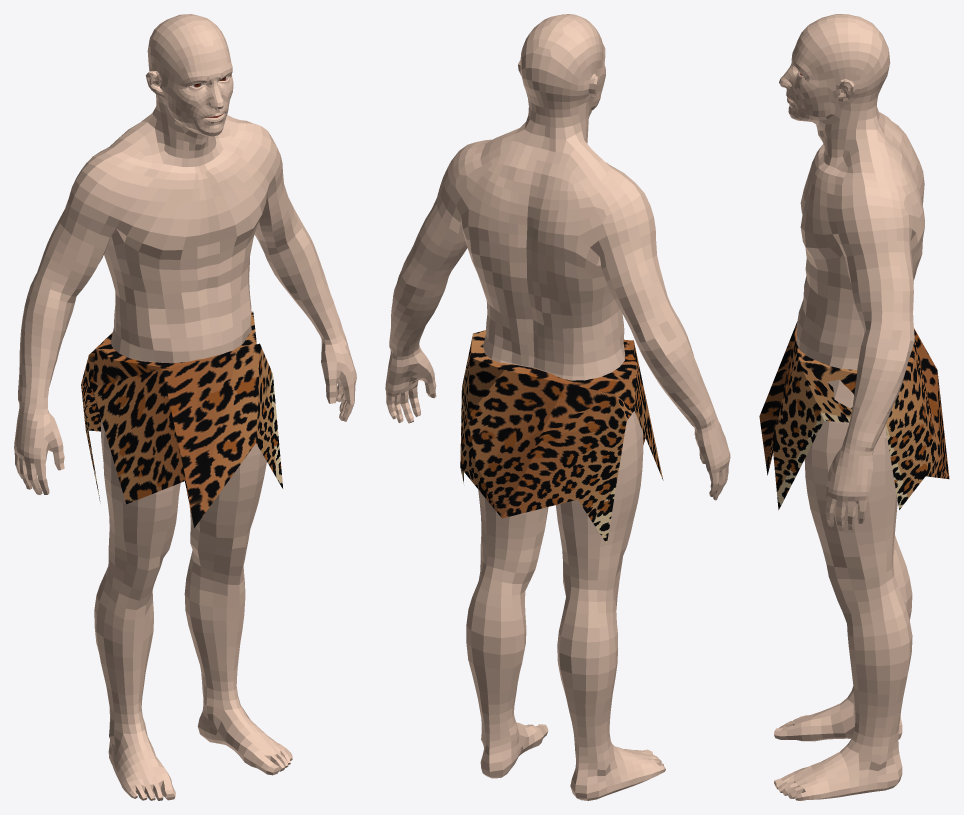
File: man2.obj
3 renders of one model, left to right at view 1: azimuth 30°, elevation 25°; view 2: azimuth 150°, elevation 25°; view 3: azimuth 270°, elevation 25°, orthographic.
Parts seen in each view (by area): view 1: Realistic_White_Male_Low_Poly; view 2: Realistic_White_Male_Low_Poly; view 3: Realistic_White_Male_Low_Poly.
Part boxes in pixels (box(x1,y1,x2,y2)): Realistic_White_Male_Low_Poly: box(14, 14, 356, 800); Realistic_White_Male_Low_Poly: box(385, 14, 730, 800); Realistic_White_Male_Low_Poly: box(759, 14, 949, 800).
Size of the model in its own units: 3.37 by 7.21 by 1.66.
